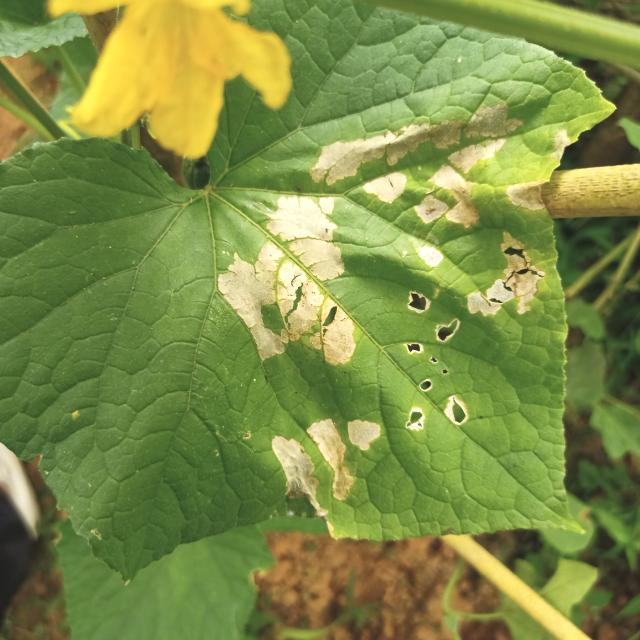disease_cucumber: (217, 100, 546, 514)
